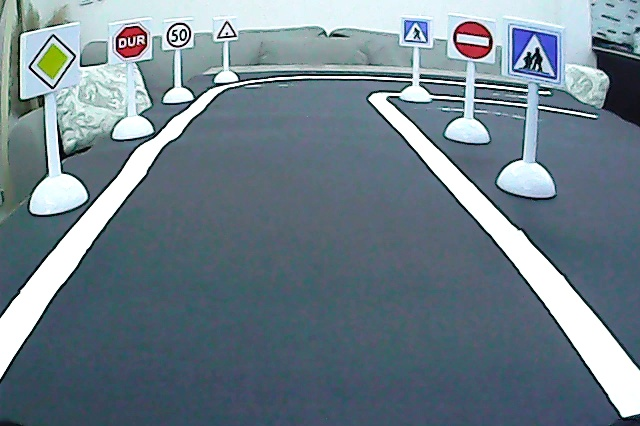do not enter: (451, 16, 496, 64)
green light: (214, 18, 238, 42)
pedestrian crossing: (401, 16, 430, 45)
school crossing: (507, 22, 562, 85)
speed limit 50: (165, 20, 194, 50)
stop sign: (112, 20, 150, 60)
